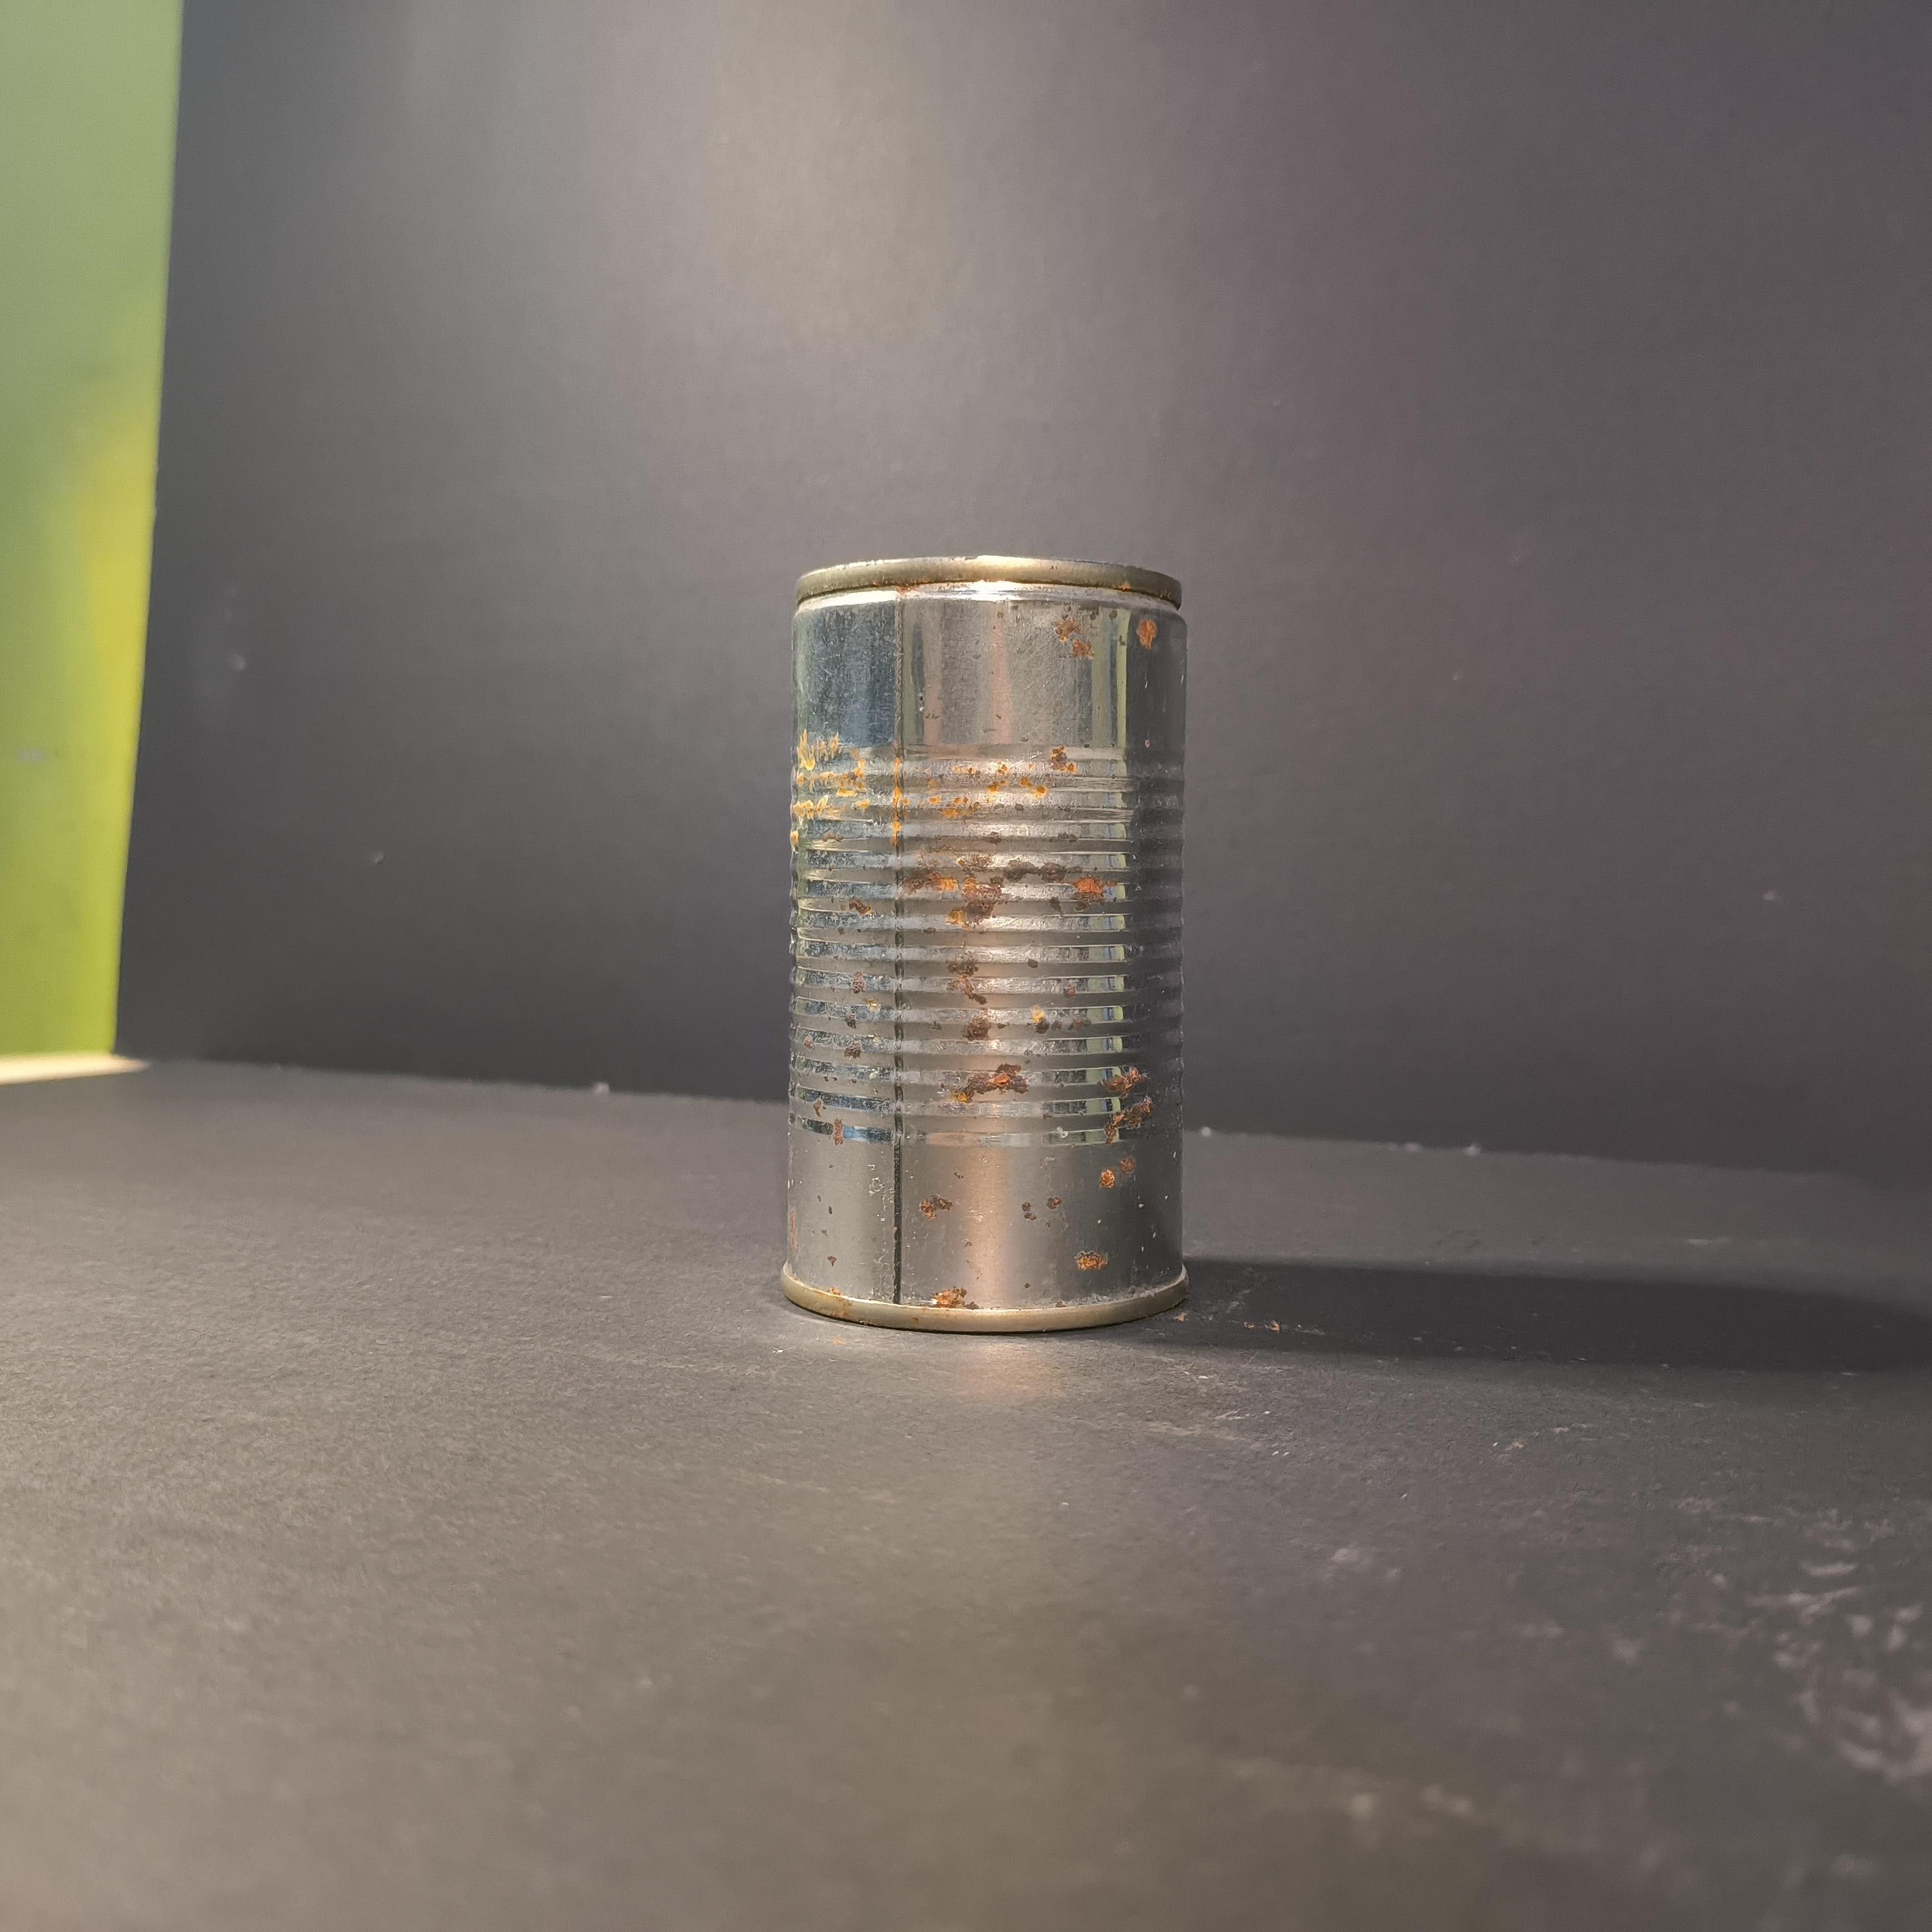Rusted: (762, 517, 1221, 1361)
